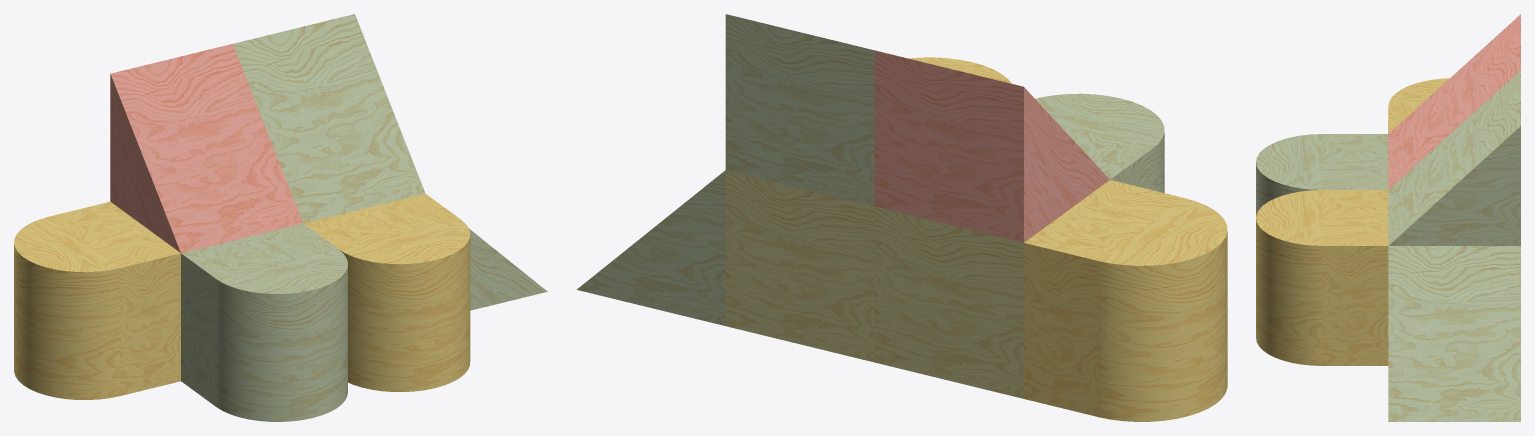
The picture shows the model from 3 angles, left to right: view 1: azimuth 30°, elevation 25°; view 2: azimuth 150°, elevation 25°; view 3: azimuth 270°, elevation 25°; orthographic projection. The views are drawn at different scales.
Size of the model in its own units: 200 by 100 by 100.
Materials: 11 (11 with a texture image).
